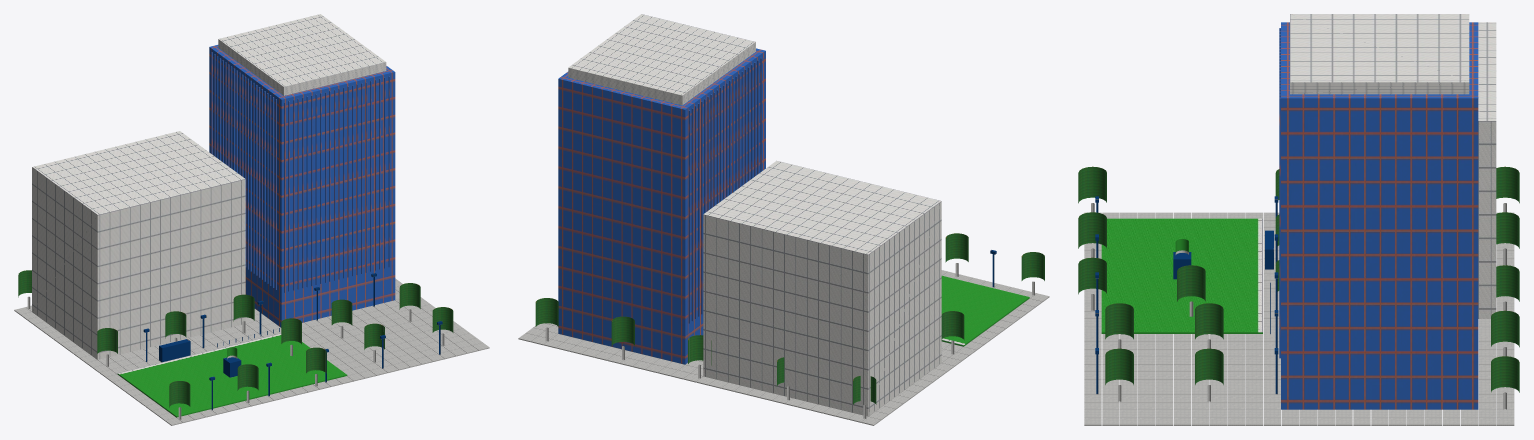
The picture shows the model from 3 angles, left to right: view 1: azimuth 30°, elevation 25°; view 2: azimuth 150°, elevation 25°; view 3: azimuth 270°, elevation 25°; orthographic projection. The views are drawn at different scales.
Visible parts, largest first — view 1: 28185_B22_Yonsei_International_Campus; view 2: 28185_B22_Yonsei_International_Campus; view 3: 28185_B22_Yonsei_International_Campus.
Boxes of the visible parts, <box> form: 28185_B22_Yonsei_International_Campus: <box>14,14,489,425</box>; 28185_B22_Yonsei_International_Campus: <box>518,14,1049,425</box>; 28185_B22_Yonsei_International_Campus: <box>1078,14,1519,425</box>.
Bounding box in the file's own units: 55.95 × 40 × 49.2.
1 material, 1 textured.
